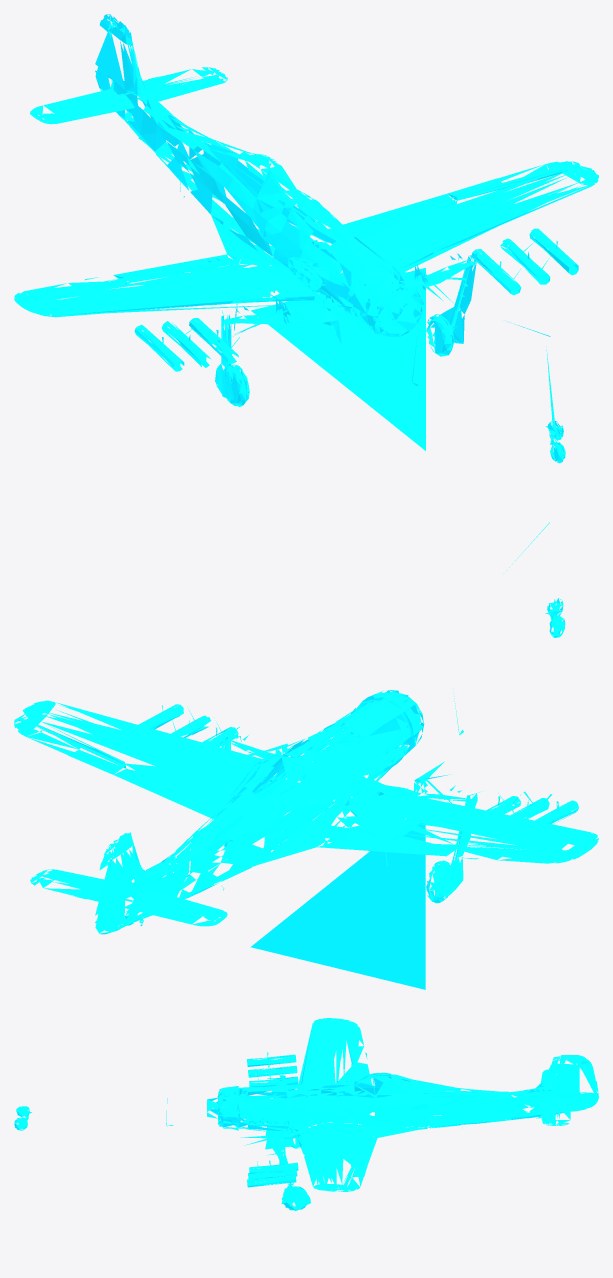
The model's file is PGAL953.glb.
The picture shows the model from 3 angles, top to bottom: view 1: azimuth 30°, elevation 25°; view 2: azimuth 150°, elevation 25°; view 3: azimuth 270°, elevation 25°; orthographic projection. The views are drawn at different scales.
Visible parts, largest first — view 1: misc; view 2: misc; view 3: misc.
Boxes of the visible parts, x1=… form: misc: x1=14, y1=14, x2=598, y2=463; misc: x1=14, y1=522, x2=598, y2=989; misc: x1=14, y1=1018, x2=598, y2=1210.
Size of the model in its own units: 0.7331 by 0.3591 by 1.04.
